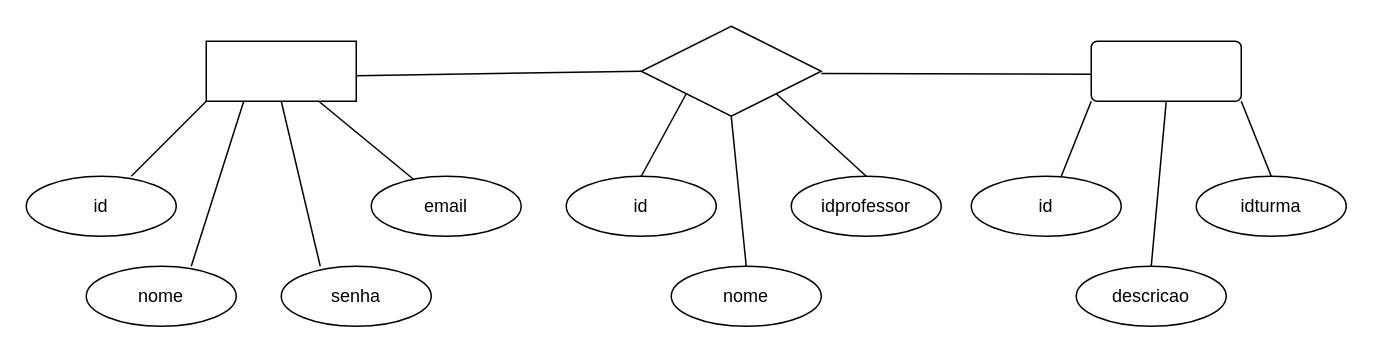
Some shapes in this 1373 by 353 pixel diagram are drawn without their labels. Here are the shapes that lost their labels. From the top down, the centre of each, then its label:
(280,70): professor
(730,70): turma
(1165,70): atividade
